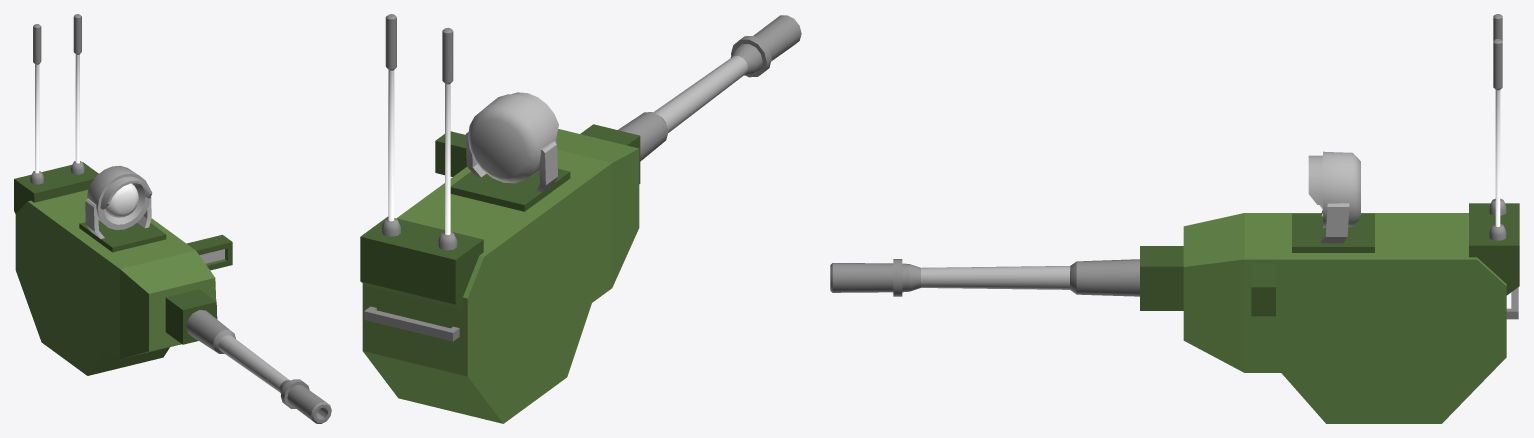
The model's file is APC_Autocannon.fbx.
3 renders of one model, left to right at view 1: azimuth 30°, elevation 25°; view 2: azimuth 150°, elevation 25°; view 3: azimuth 270°, elevation 25°, orthographic. The views are drawn at different scales.
Visible parts, largest first — view 1: Autocannon, Autocannon Barrel; view 2: Autocannon, Autocannon Barrel; view 3: Autocannon, Autocannon Barrel.
Part boxes in pixels (left/top/right/bottom): Autocannon: left=14, top=14, right=235, bottom=375; Autocannon Barrel: left=218, top=335, right=331, bottom=423; Autocannon: left=360, top=14, right=668, bottom=423; Autocannon Barrel: left=653, top=15, right=801, bottom=132; Autocannon: left=1070, top=14, right=1519, bottom=423; Autocannon Barrel: left=830, top=259, right=1070, bottom=296.
Bounding box in the file's own units: 0.4663 × 1.15 × 1.92.
